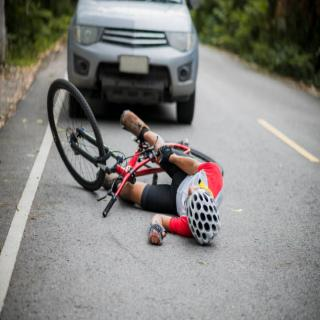Normal_vehicle: (64, 2, 207, 123)
